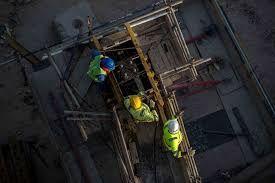helmet: (103, 57, 115, 70), (130, 95, 140, 109), (167, 121, 178, 133)
